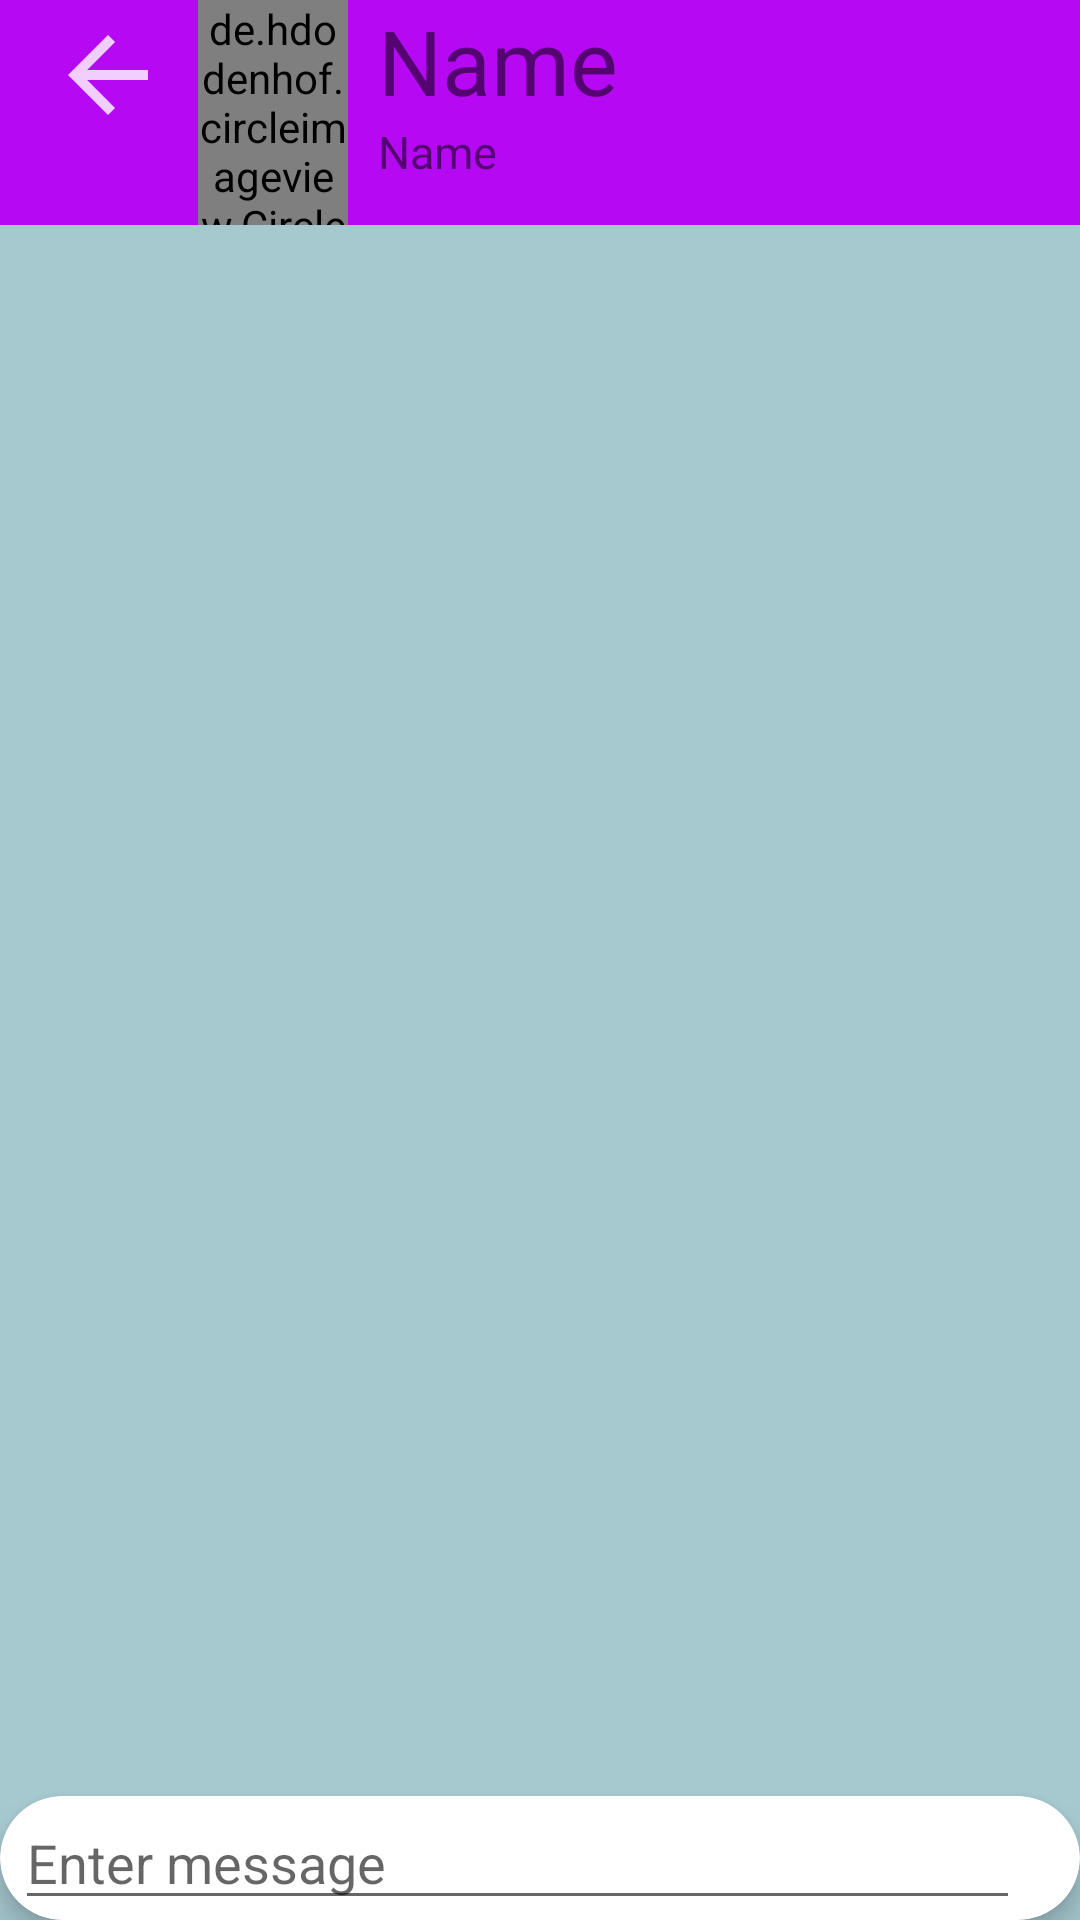

Screen size 1080×1920. Icon name, then its center in pixels as point (x, y):
back: point (108, 75)
